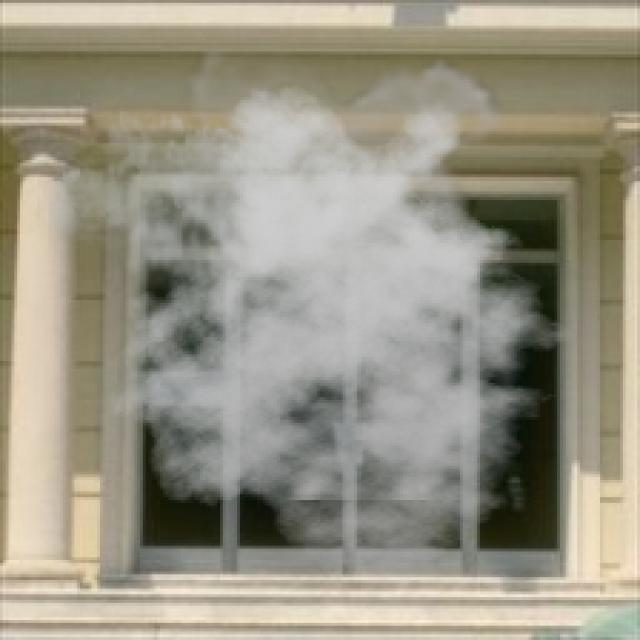Smoke: (48, 51, 598, 572)
